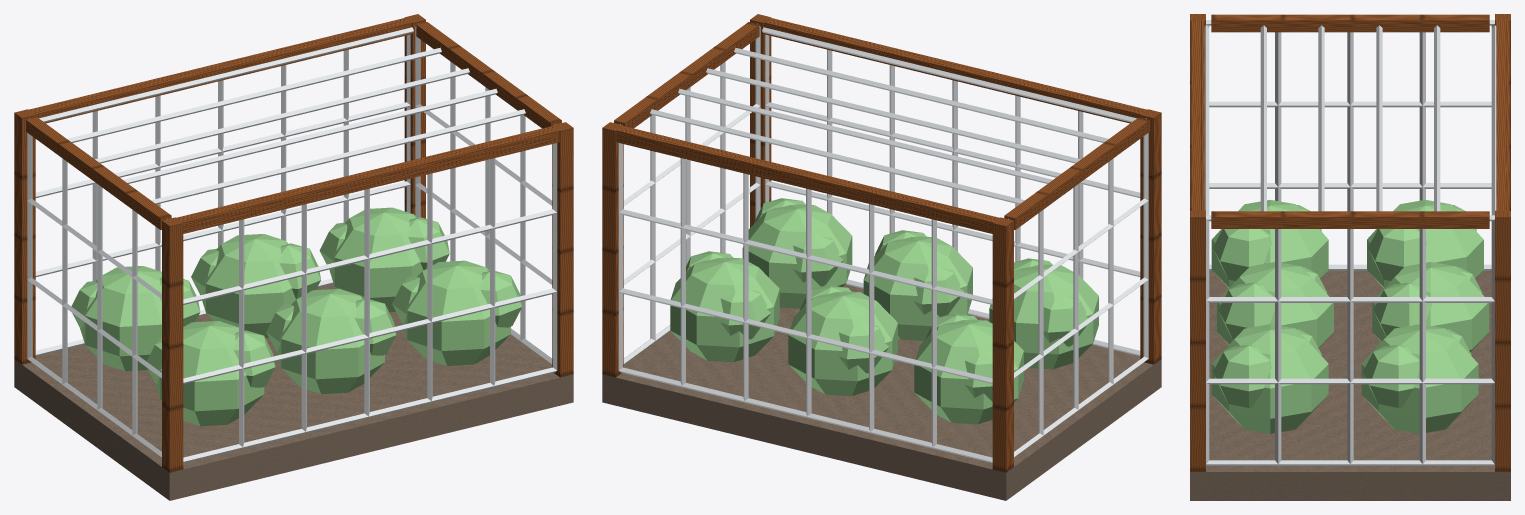
File: allotments-and-community-garden-netted-brassica-cage-012018f4__35144.glb
3 renders of one model, left to right at view 1: azimuth 30°, elevation 25°; view 2: azimuth 150°, elevation 25°; view 3: azimuth 270°, elevation 25°, orthographic. The views are drawn at different scales.
Parts seen in each view (by area): view 1: netted-brassica-cage-galv, netted-brassica-cage-leaf, netted-brassica-cage-soil, netted-brassica-cage-timber; view 2: netted-brassica-cage-galv, netted-brassica-cage-leaf, netted-brassica-cage-soil, netted-brassica-cage-timber; view 3: netted-brassica-cage-leaf, netted-brassica-cage-soil, netted-brassica-cage-galv, netted-brassica-cage-timber.
Part boxes in pixels (x1,y1,x2,y2): netted-brassica-cage-galv: (27, 23, 557, 462); netted-brassica-cage-leaf: (71, 207, 522, 426); netted-brassica-cage-soil: (14, 283, 573, 500); netted-brassica-cage-timber: (14, 14, 573, 472); netted-brassica-cage-galv: (618, 23, 1148, 462); netted-brassica-cage-leaf: (670, 198, 1098, 424); netted-brassica-cage-soil: (602, 284, 1161, 500); netted-brassica-cage-timber: (602, 14, 1161, 472); netted-brassica-cage-leaf: (1211, 199, 1489, 433); netted-brassica-cage-soil: (1190, 270, 1510, 500); netted-brassica-cage-galv: (1204, 20, 1496, 465); netted-brassica-cage-timber: (1190, 14, 1510, 471).
Bounding box in the file's own units: 1.8 × 1.17 × 1.2.
Materials: 4 (2 with a texture image).
